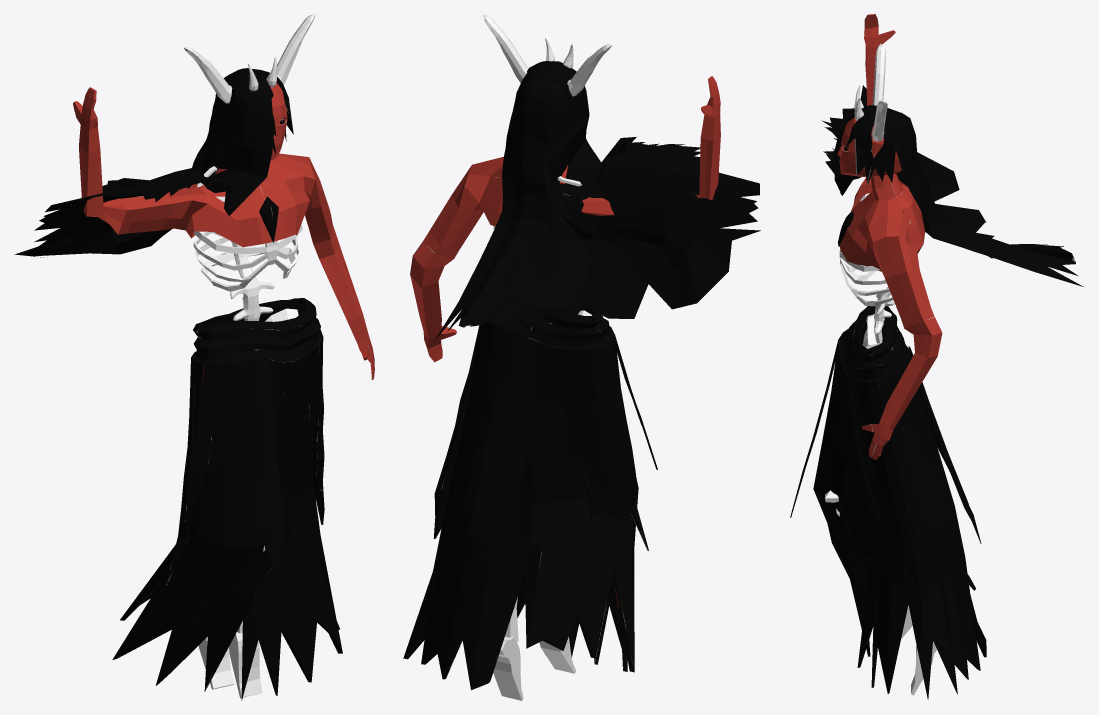
Rendered from cursedqueenattack_11.fbx.
3 renders of one model, left to right at view 1: azimuth 30°, elevation 25°; view 2: azimuth 150°, elevation 25°; view 3: azimuth 270°, elevation 25°, orthographic. The views are drawn at different scales.
Visible parts, largest first — view 1: cursed_queen; view 2: cursed_queen; view 3: cursed_queen.
Boxes of the visible parts, <box> form: cursed_queen: <box>14,14,374,700</box>; cursed_queen: <box>403,14,760,700</box>; cursed_queen: <box>790,14,1083,700</box>.
Size of the model in its own units: 148 by 281 by 123.
